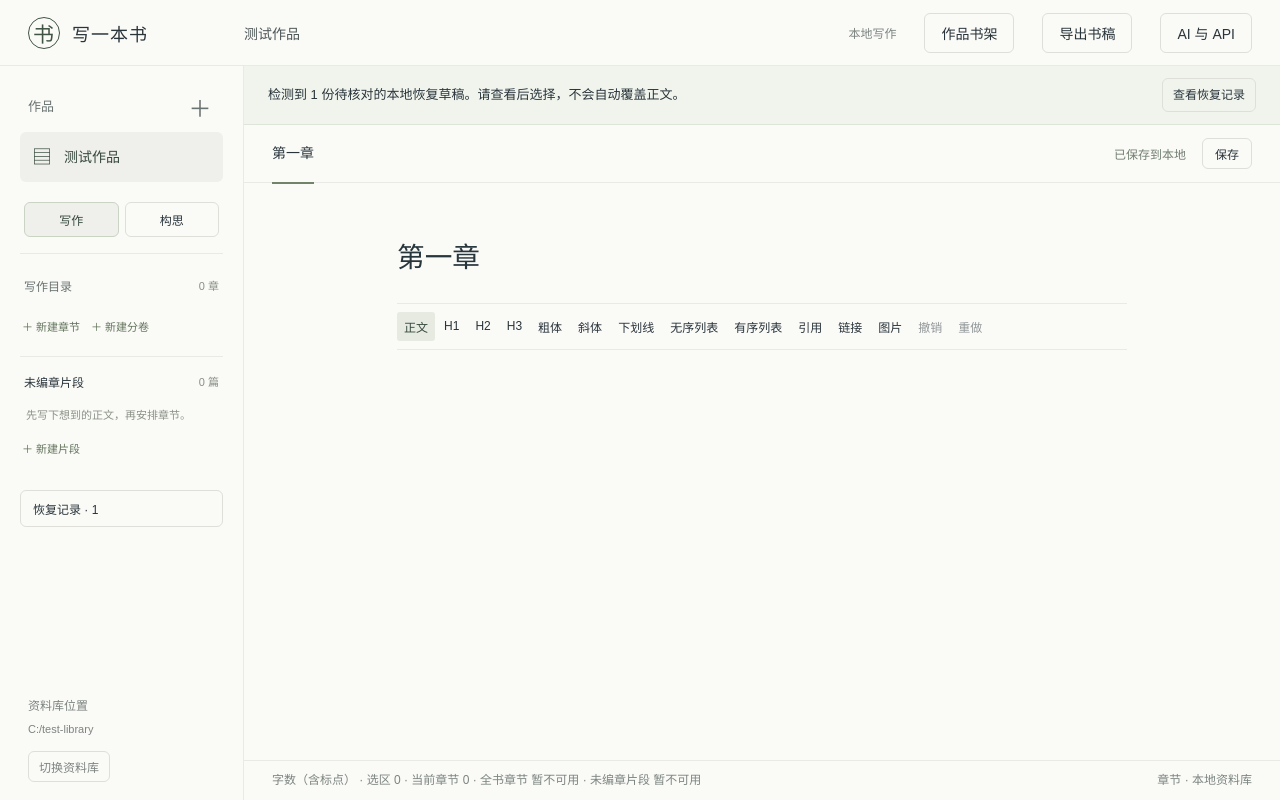
Test: keeps a live composition and its focus when recovery is requested
Click the button with class "recovery-sidebar-entry".
click(122, 508)  # box [20, 490, 223, 527]
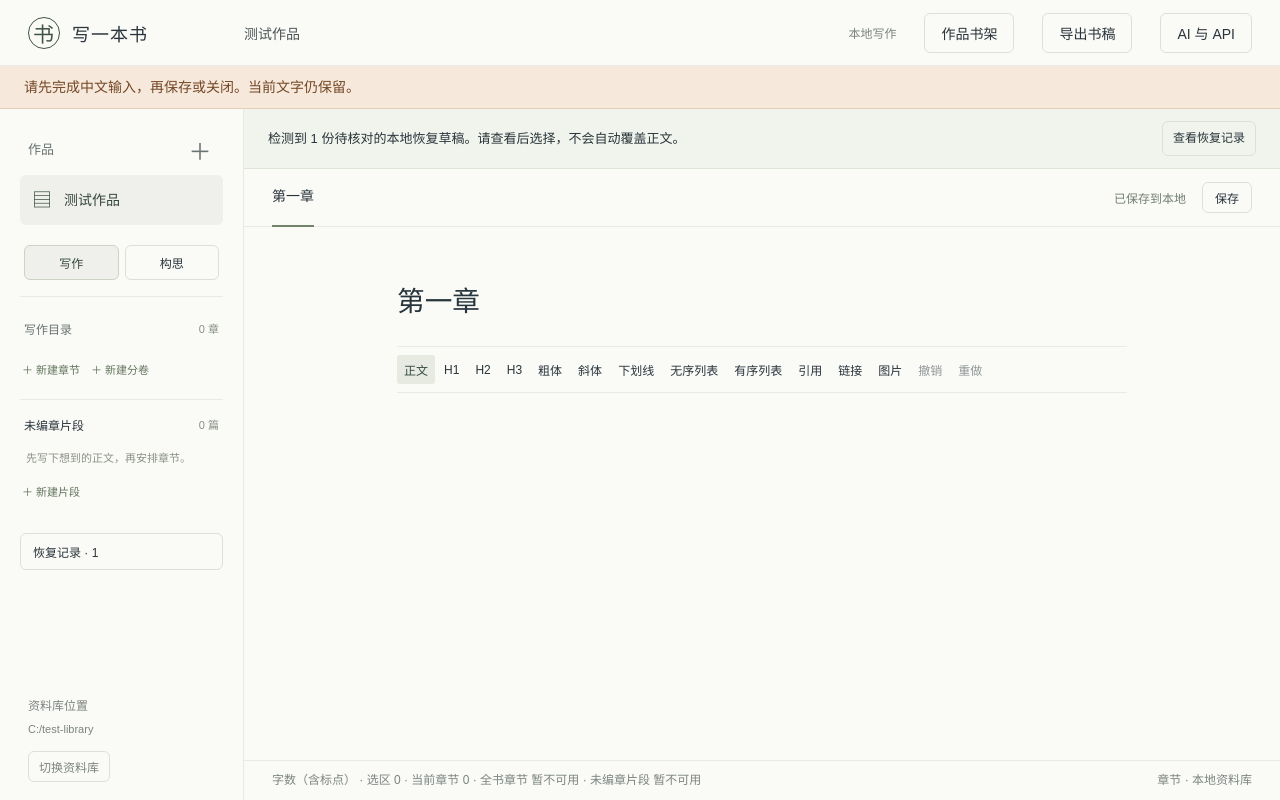
Check: the text "请先完成中文输入" is shown, box [24, 79, 360, 95]
